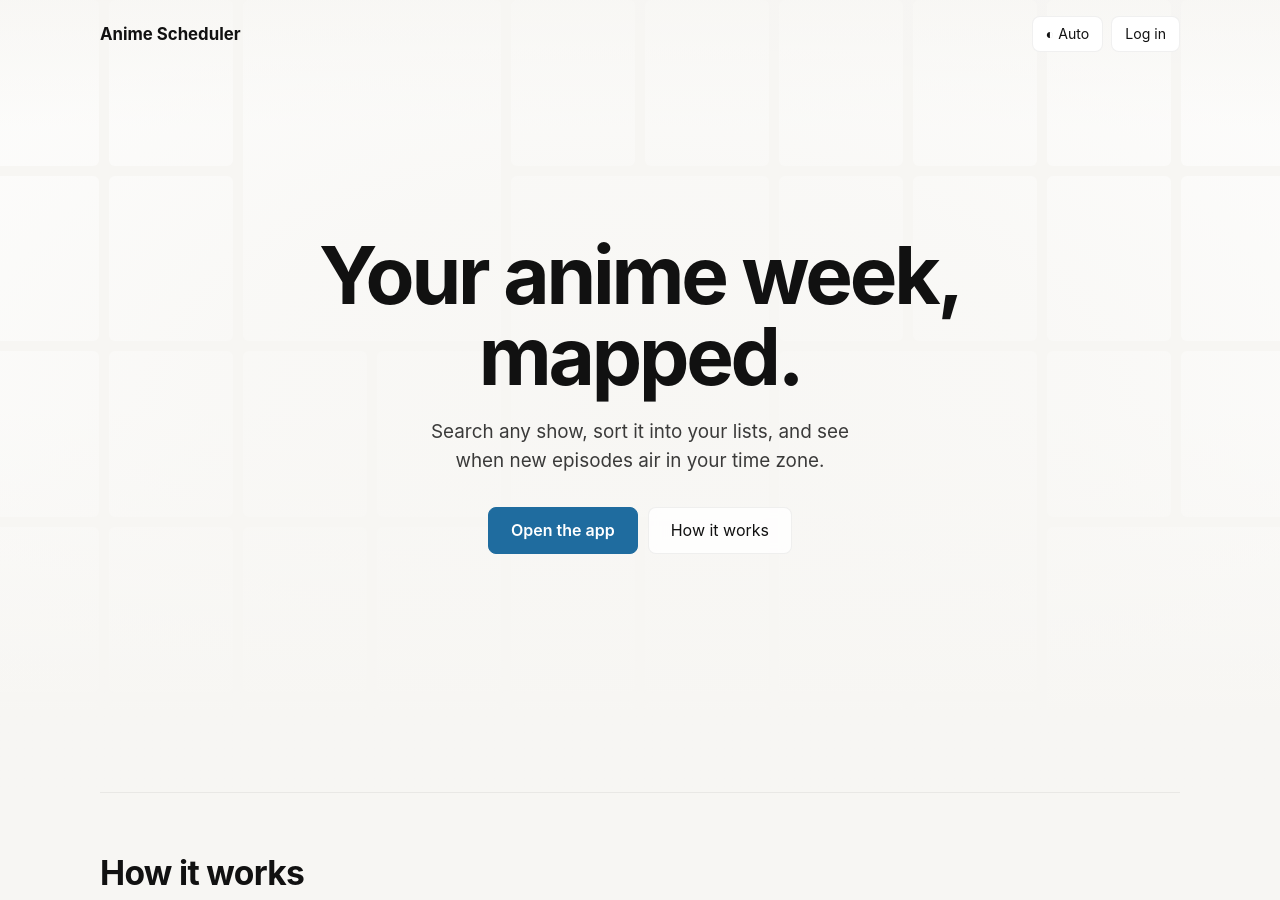
Test: App — +1 auto-advance (D4) › reaching the final known episode moves to watched and toasts
Click the button "Open the app": x=563, y=531 top-left (488, 507), bottom-right (638, 554)
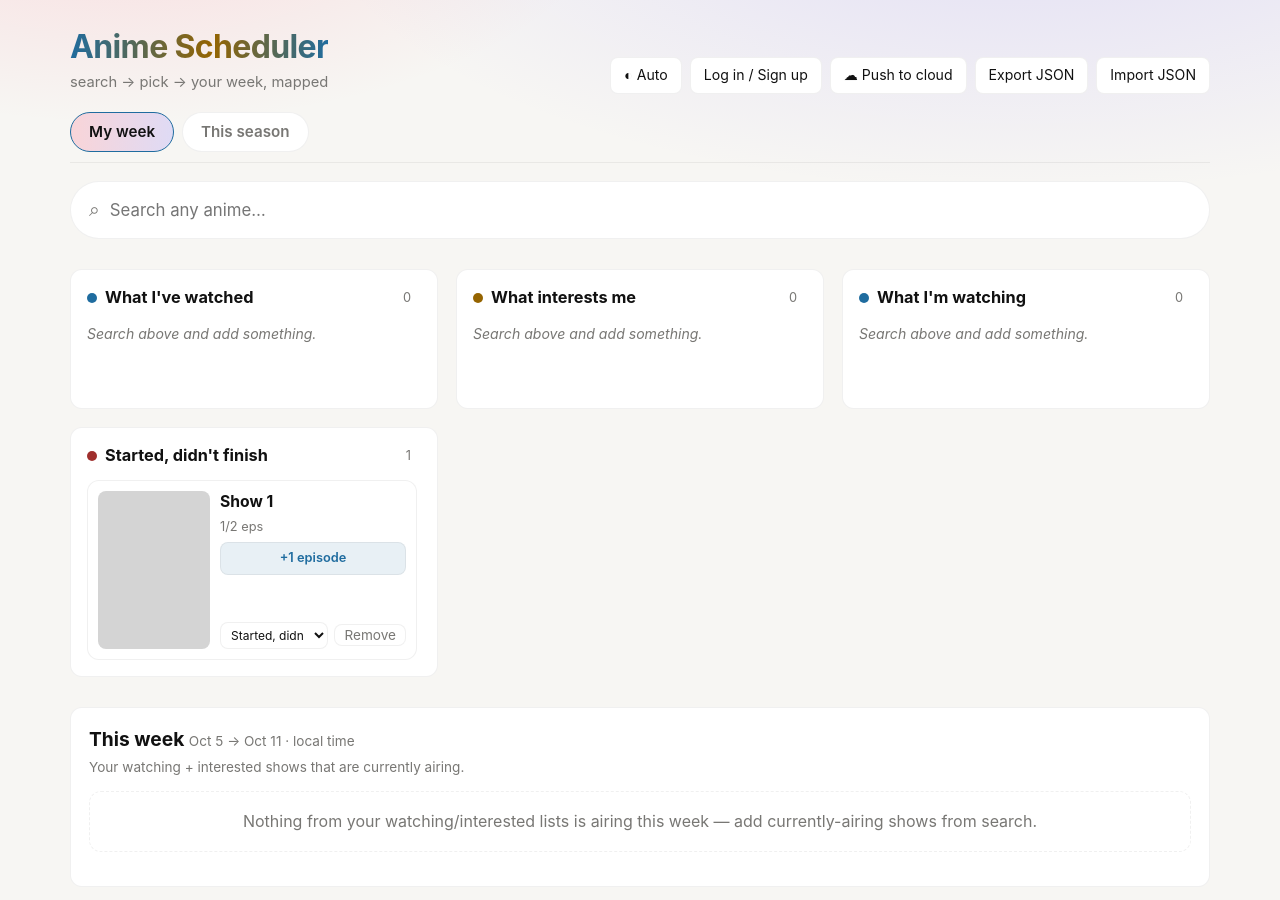
Click the button with aria-label "Add one episode of Show 1": x=313, y=558 top-left (220, 542), bottom-right (406, 574)
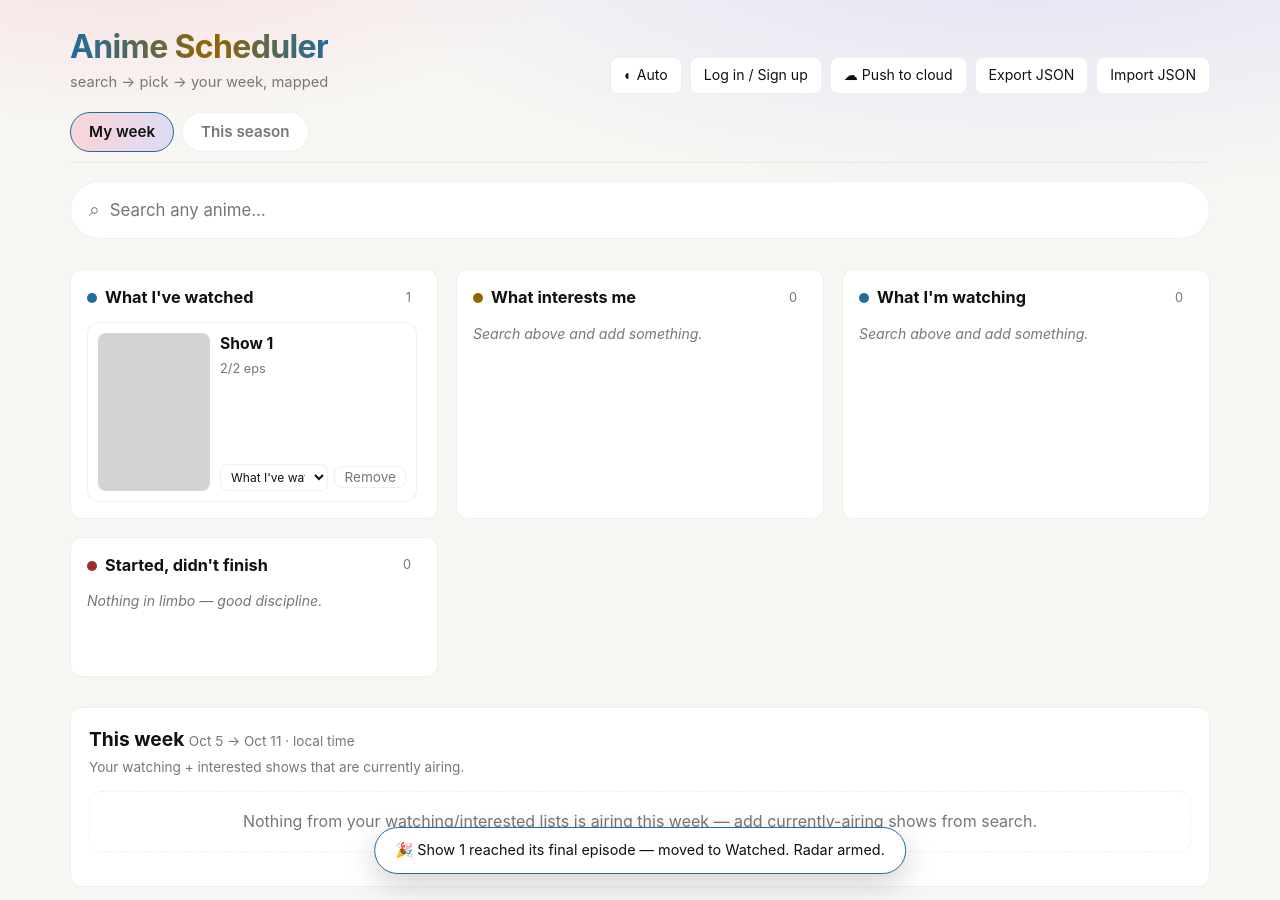
Expected: the heading "Show 1" is shown, top-left (220, 334), bottom-right (273, 353)
Expected: the text "2/2 eps" is shown, top-left (220, 362), bottom-right (266, 376)
Expected: the text "🎉 Show 1 reached its final episode — moved to Watched. Radar armed." is shown, top-left (374, 827), bottom-right (906, 874)
